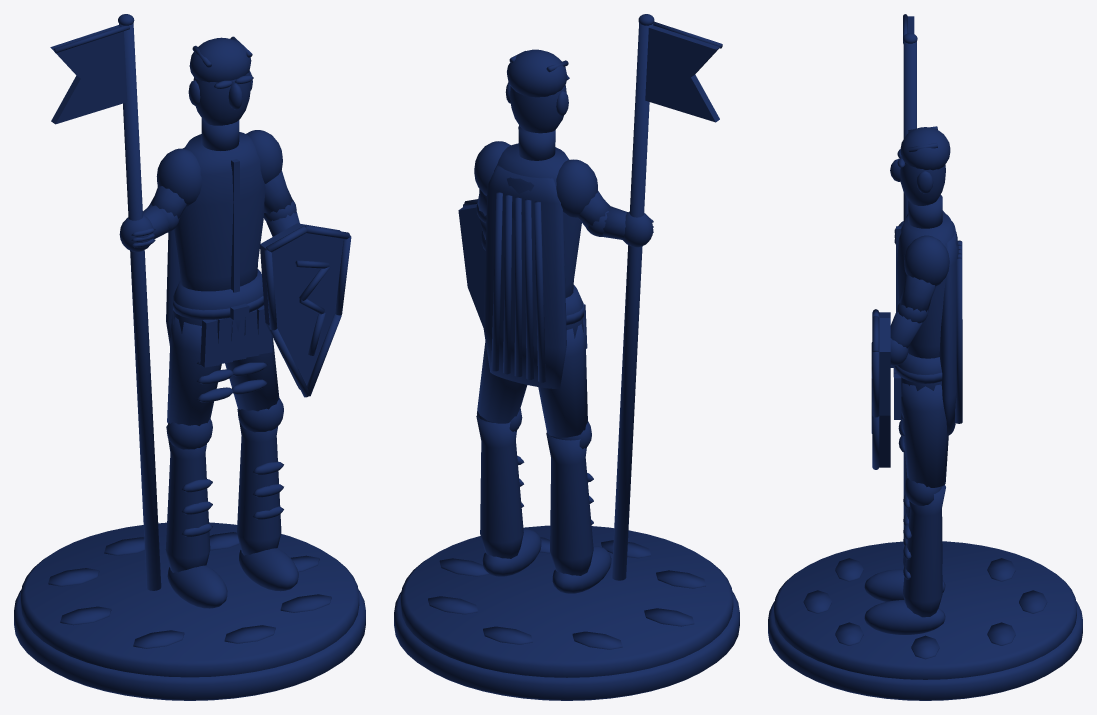
The model's file is knight-blue-level-2-bare.fbx.
The picture shows the model from 3 angles, left to right: view 1: azimuth 30°, elevation 25°; view 2: azimuth 150°, elevation 25°; view 3: azimuth 270°, elevation 25°; orthographic projection. The views are drawn at different scales.
Visible parts, largest first — view 1: Knight_Level_2_Bare_Sculpt; view 2: Knight_Level_2_Bare_Sculpt; view 3: Knight_Level_2_Bare_Sculpt.
Part boxes in pixels (<box>): Knight_Level_2_Bare_Sculpt: <box>14,14,365,700</box>; Knight_Level_2_Bare_Sculpt: <box>394,14,739,700</box>; Knight_Level_2_Bare_Sculpt: <box>768,14,1082,700</box>.
Bounding box in the file's own units: 0.012 × 0.024 × 0.012.
